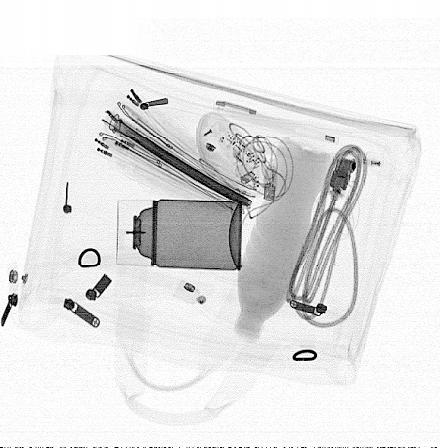Sprayer: (116, 198, 244, 273)
